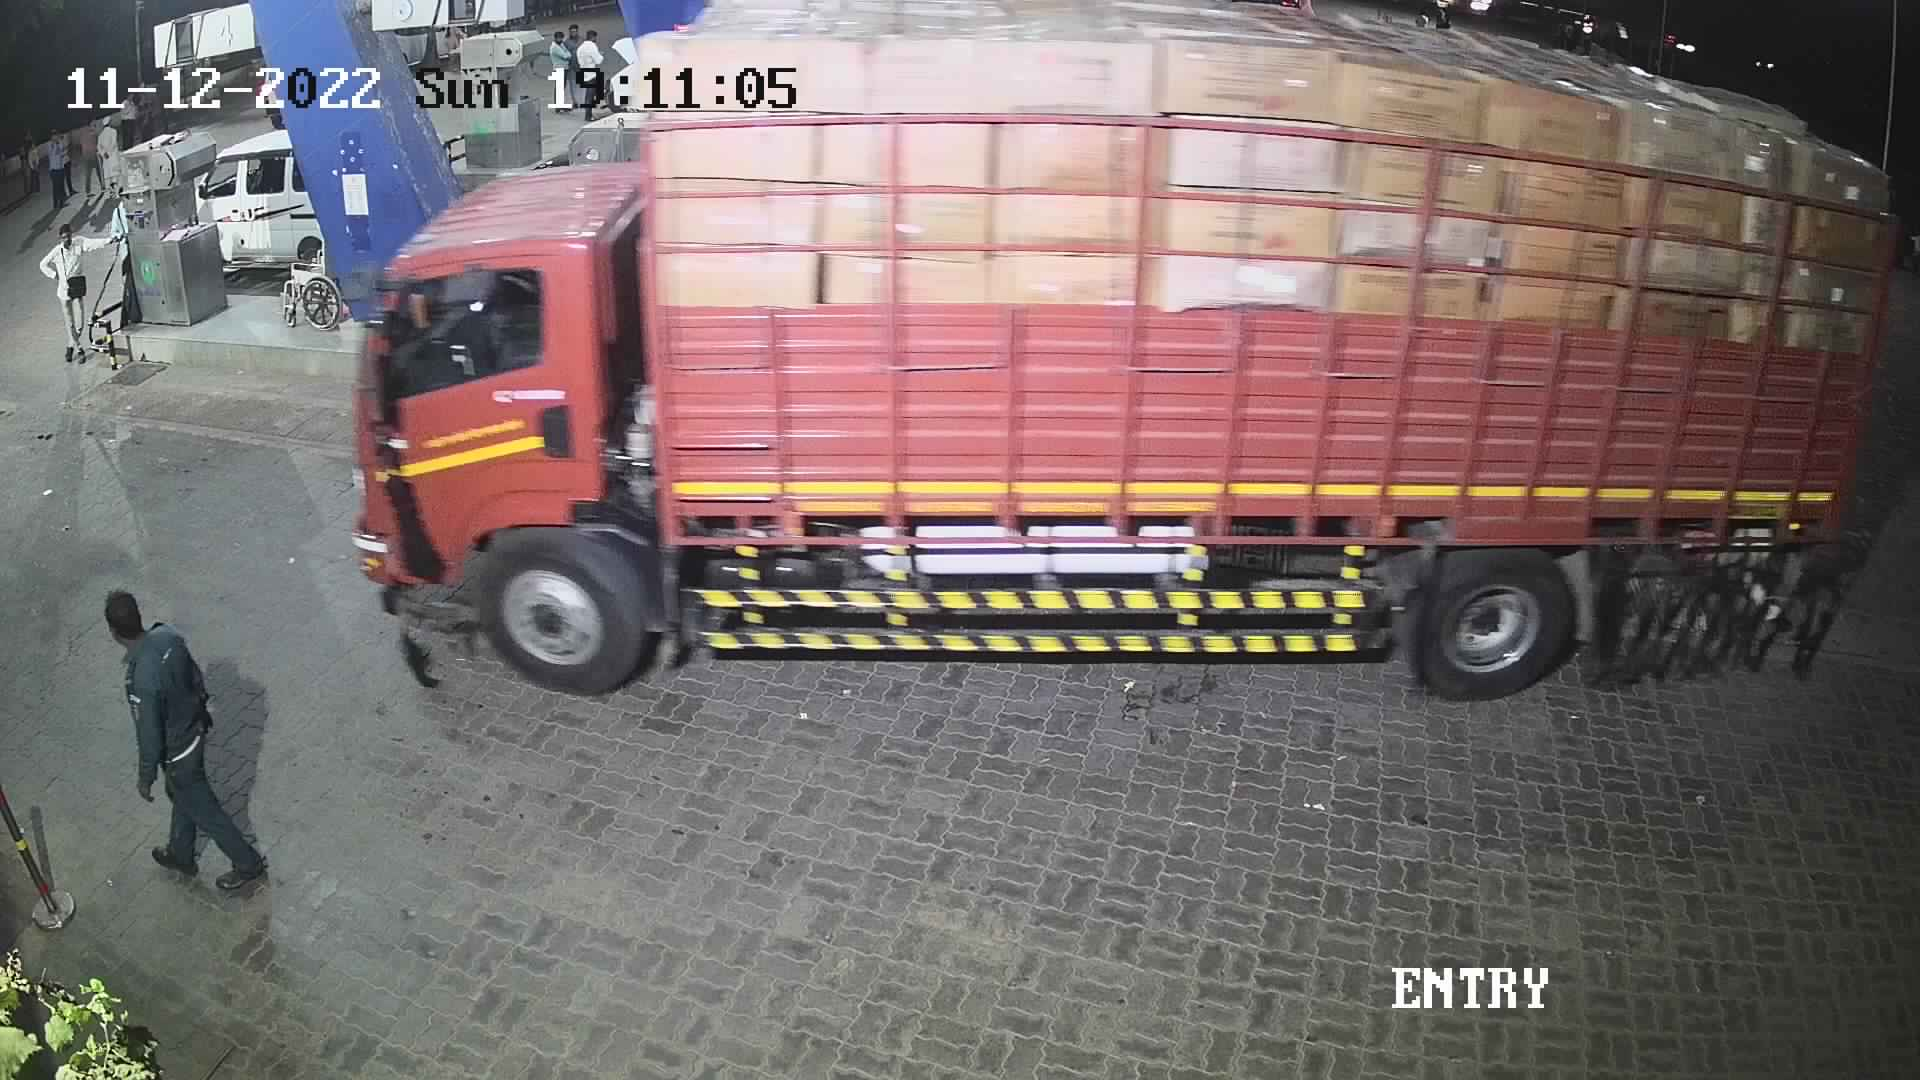Car: (171, 107, 388, 291), (363, 3, 510, 88), (579, 26, 665, 140)
HMV: (316, 1, 1917, 720)
